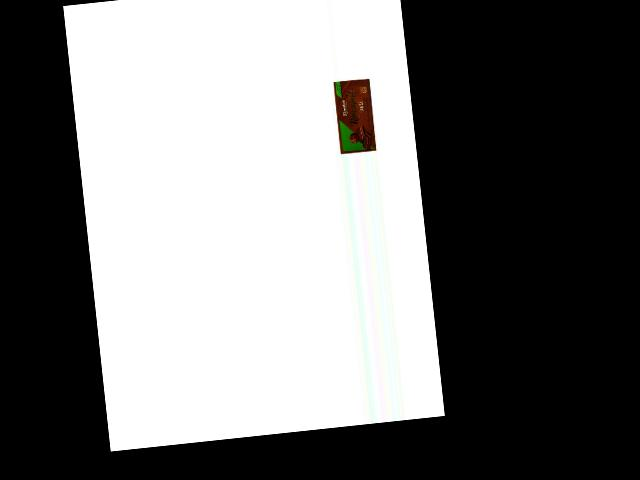chocolate: (331, 75, 380, 155)
